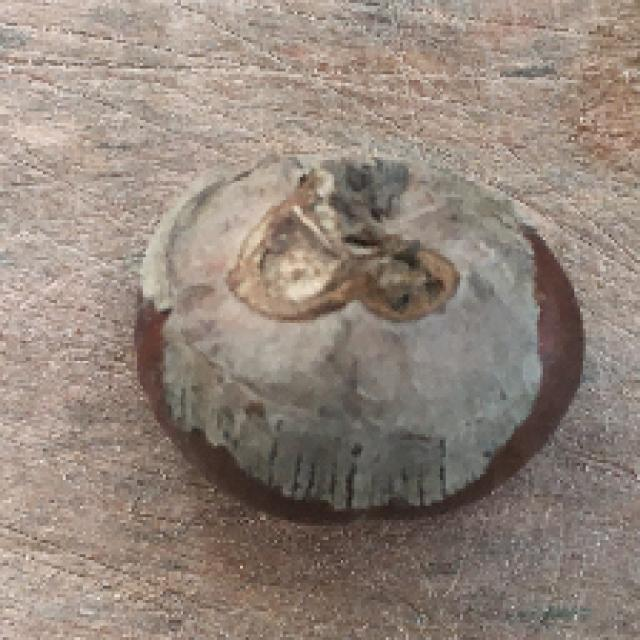damagedHazelnut: (119, 148, 598, 527)
